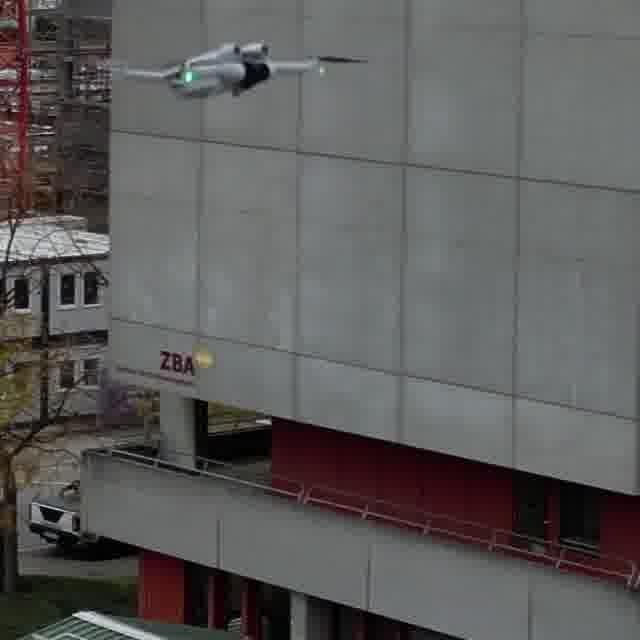Drohne: (111, 41, 366, 98)
